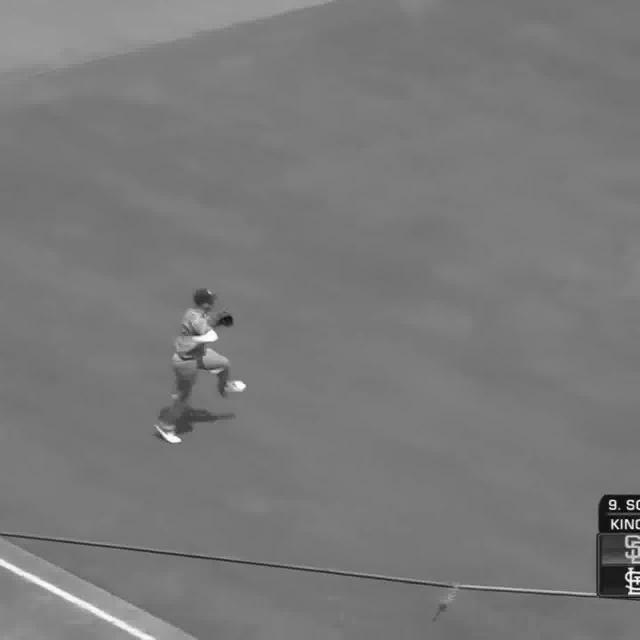baseball_glove: (213, 313, 237, 330)
shoe: (156, 424, 186, 445), (221, 379, 245, 398)
